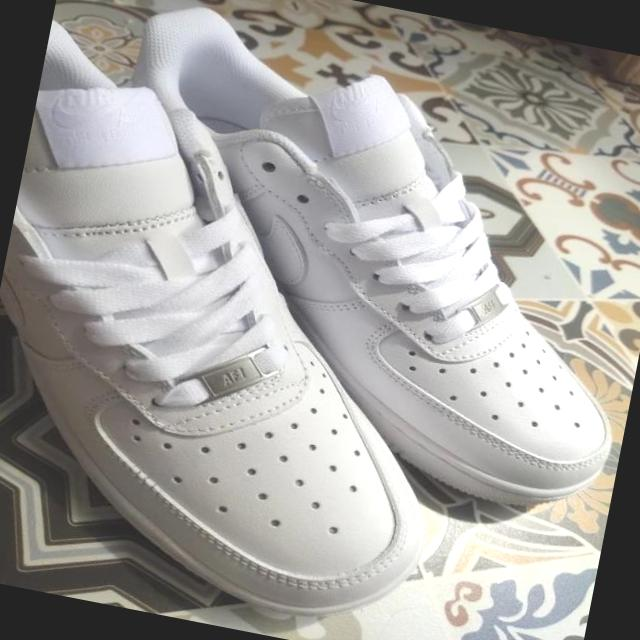nike_original_airforce: (0, 17, 491, 640), (65, 0, 640, 529)
